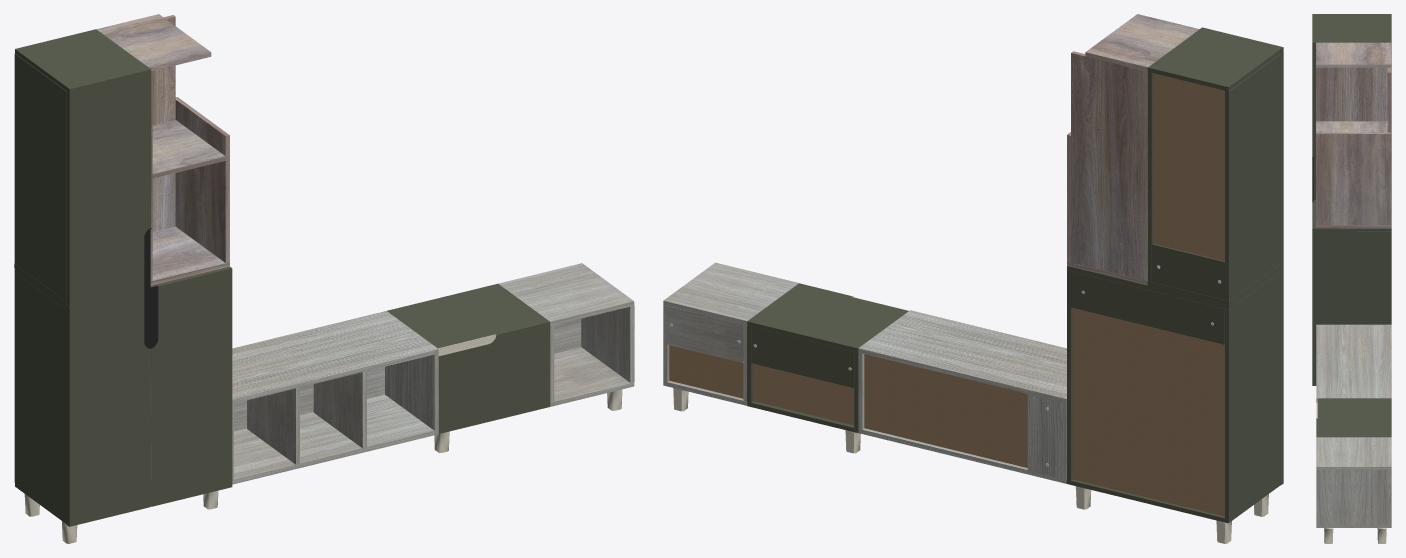
The picture shows the model from 3 angles, left to right: view 1: azimuth 30°, elevation 25°; view 2: azimuth 150°, elevation 25°; view 3: azimuth 270°, elevation 25°; orthographic projection. The views are drawn at different scales.
Visible parts, largest first — view 1: Cube.003, Cube.005, Cube.007, group_0.145, group_0.094, SketchUp.011, Plane; view 2: Cube.003, Cube.005, group_0.144, Cube.007, group_0.151, group_0.145, group_0.150, Plane.001, group_0.094; view 3: Cube.003, Cube.007, group_0.145, Cube.005, group_0.094.
Boxes of the visible parts, bbox=[...] form: Cube.003: bbox=[14, 29, 549, 526]; Cube.005: bbox=[232, 311, 438, 484]; Cube.007: bbox=[96, 14, 229, 285]; group_0.145: bbox=[498, 263, 634, 406]; group_0.094: bbox=[24, 334, 622, 543]; SketchUp.011: bbox=[144, 228, 158, 348]; Plane: bbox=[554, 318, 581, 353]; Cube.003: bbox=[747, 27, 1283, 523]; Cube.005: bbox=[858, 310, 1066, 483]; group_0.144: bbox=[1072, 308, 1224, 516]; Cube.007: bbox=[1067, 14, 1199, 285]; group_0.151: bbox=[1153, 73, 1224, 260]; group_0.145: bbox=[663, 262, 798, 405]; group_0.150: bbox=[753, 364, 853, 425]; Plane.001: bbox=[669, 325, 743, 398]; group_0.094: bbox=[673, 296, 1268, 543]; Cube.003: bbox=[1312, 14, 1391, 437]; Cube.007: bbox=[1316, 42, 1391, 228]; group_0.145: bbox=[1316, 437, 1391, 527]; Cube.005: bbox=[1316, 324, 1391, 402]; group_0.094: bbox=[1316, 398, 1386, 543].
Bounding box in the file's own units: 2.44 × 1.9 × 0.4118.
16 materials, 9 textured.
